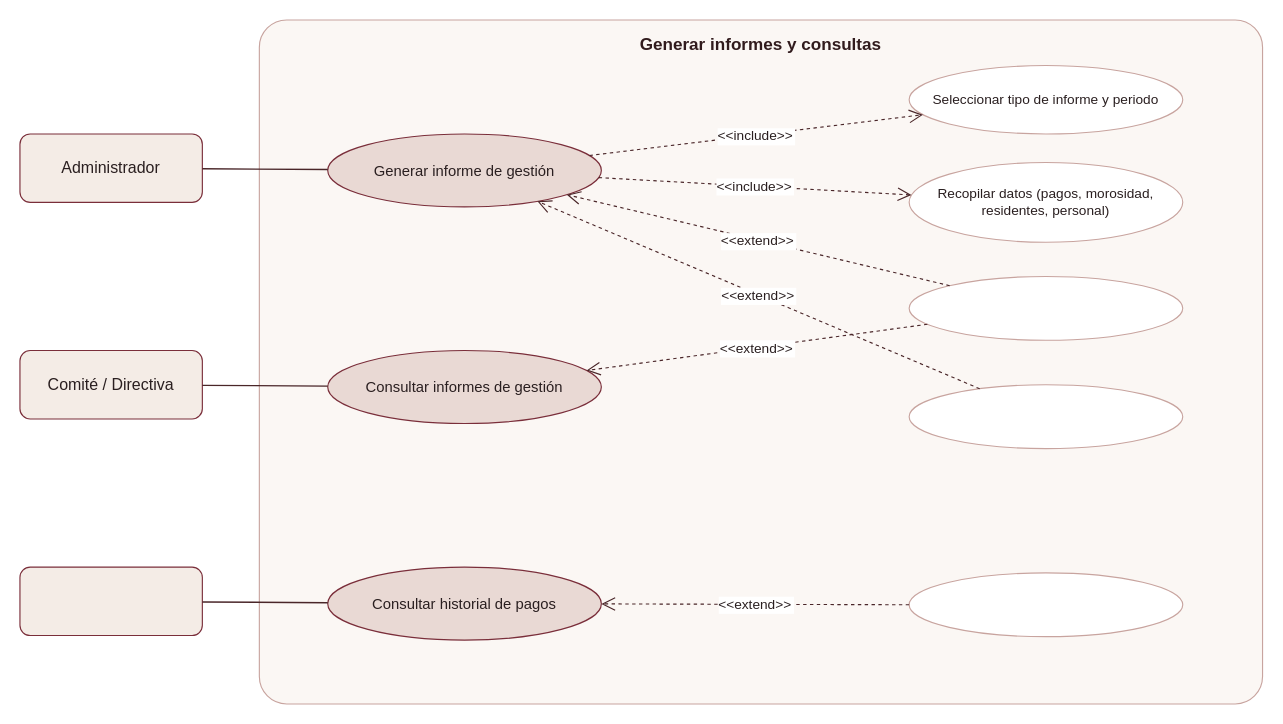
This 1283x724 diagram has some shape labels left out. The centre of each missing label's shape, as x and y in pixels:
Descargar comprobantes de pago: [1045,604]
Exportar informe a PDF: [1045,307]
Publicar informe a la directiva: [1045,416]
Residente: [110,601]
